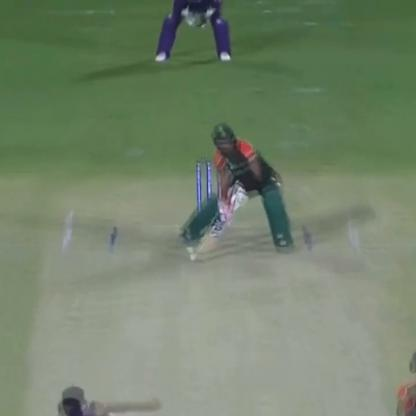ball: (185, 252, 199, 263), (181, 243, 196, 253)
bat: (194, 206, 231, 257)
pitch: (18, 209, 387, 416)
